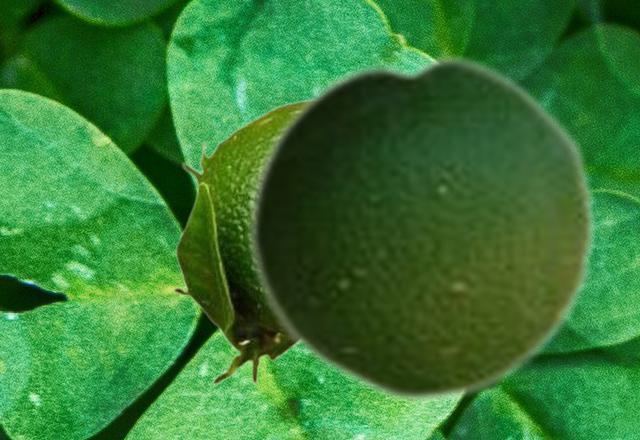dalandan: (245, 49, 598, 407), (171, 100, 298, 385)
